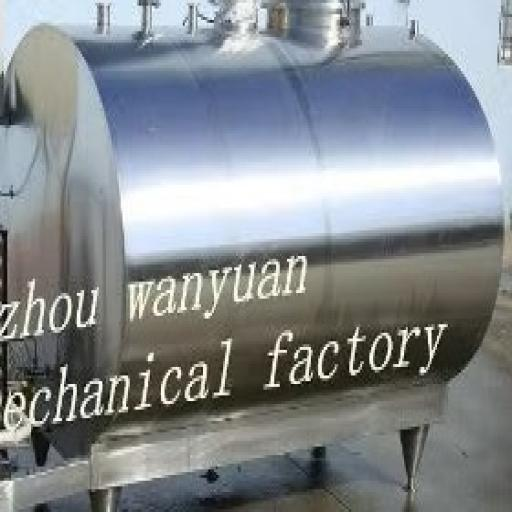silo: (0, 3, 505, 490)
